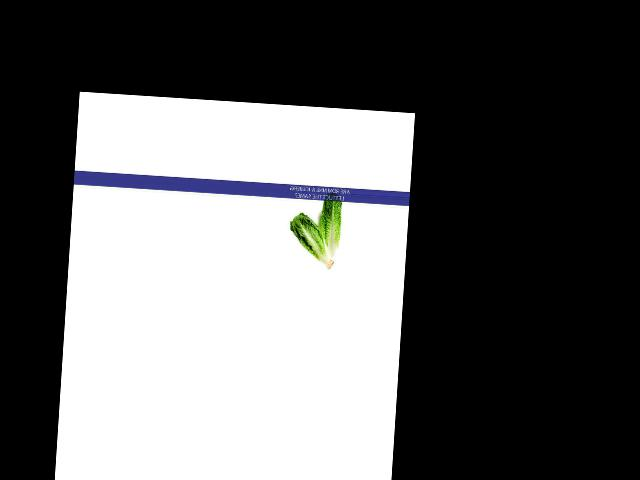lettuce: (288, 207, 339, 269)
